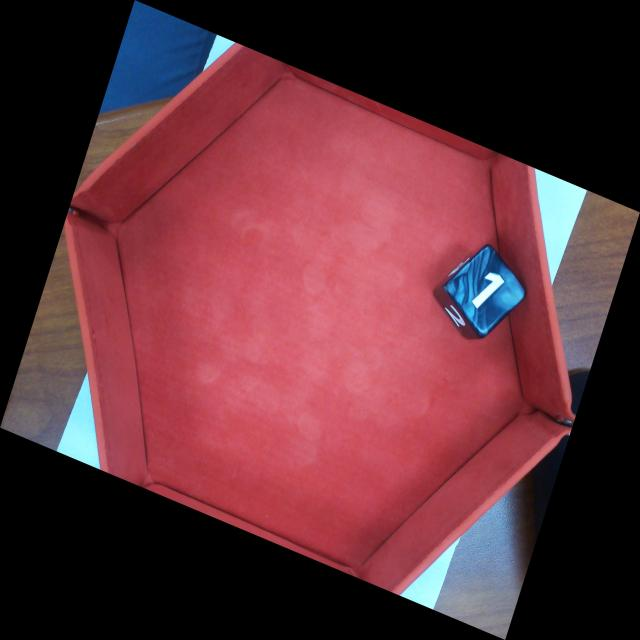dice: (443, 240, 532, 341)
